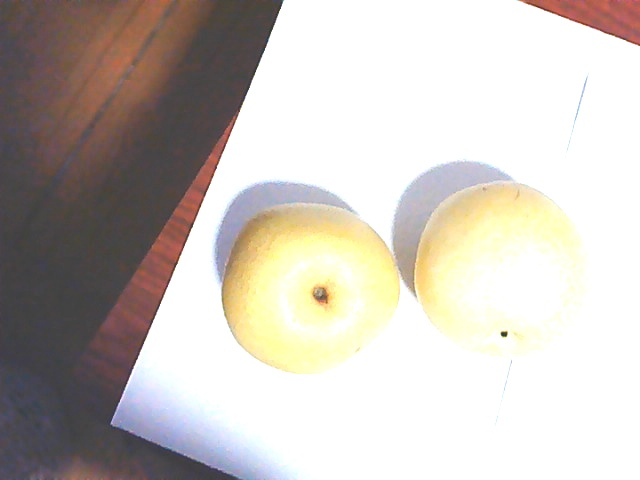pear: (410, 177, 588, 352), (224, 205, 404, 372)
